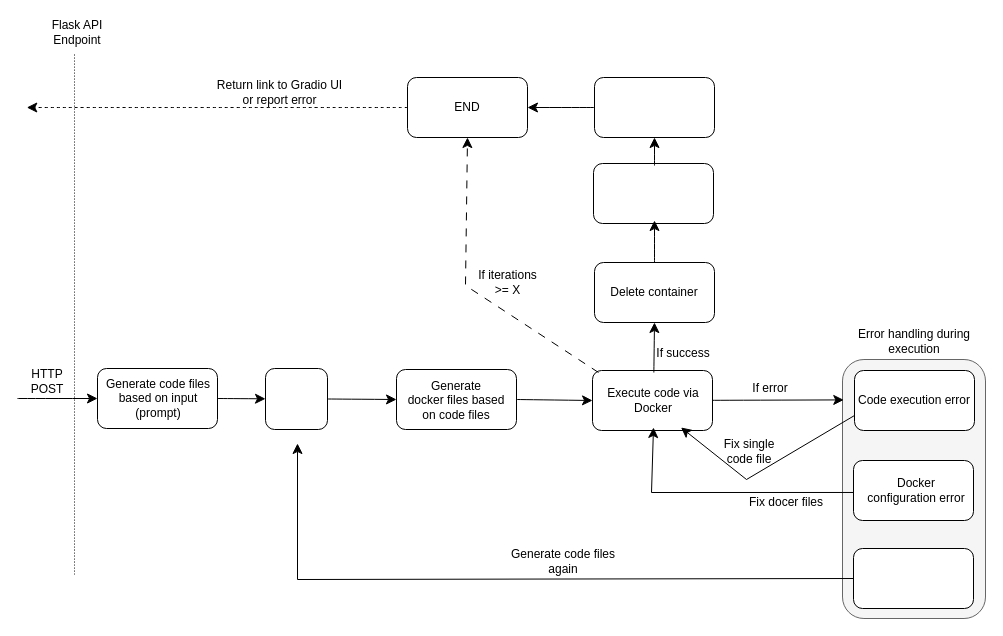
The diagram is 1003 pixels wide and 636 high, and some of its shapes have lost their labels. The shapes that lost their labels are listed below. From the top down, each one's centre as x and y in pixels, then its label:
(654,107): Create Gradio UI for serving generated files (using Docker)
(653,193): Generate README & DEVELOPER files
(296,399): Save files
(913,578): Unexpected error
